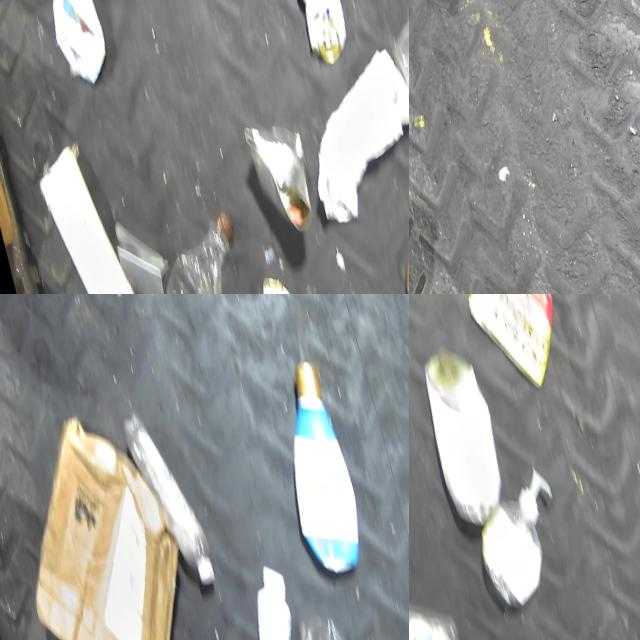can: (409, 330, 516, 531), (237, 102, 324, 237), (280, 0, 356, 67)
non_white_jug: (256, 347, 371, 577), (263, 593, 402, 640)
plastic_bottle: (116, 395, 218, 591), (144, 194, 258, 294), (409, 572, 473, 640)
